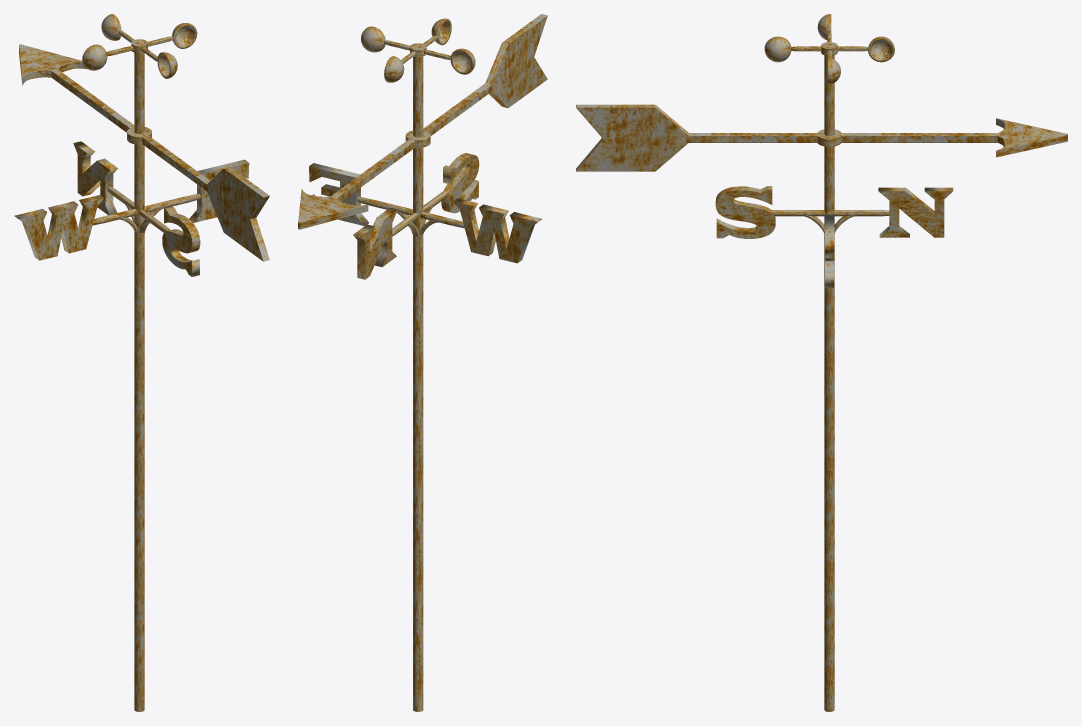
Rendered from windvane.glb.
3 views of the same model, side by side, from view 1: azimuth 30°, elevation 25°; view 2: azimuth 150°, elevation 25°; view 3: azimuth 270°, elevation 25° (orthographic).
Parts seen in each view (by area): view 1: pillar, arrow, west, north, south, east, Cube, Sphere.002, Sphere, Cube.001, Sphere.004, Sphere.003; view 2: pillar, arrow, west, north, south, east, Cube, Sphere.002, Sphere, Cube.001, Sphere.003, Sphere.004; view 3: arrow, pillar, south, north.
Boxes of the visible parts, x1=… form: pillar: x1=134, y1=52, x2=144, y2=711; arrow: x1=19, y1=44, x2=269, y2=261; west: x1=14, y1=195, x2=104, y2=260; north: x1=73, y1=141, x2=118, y2=215; south: x1=162, y1=206, x2=200, y2=276; east: x1=189, y1=159, x2=249, y2=222; Cube: x1=81, y1=193, x2=200, y2=225; Sphere.002: x1=82, y1=44, x2=107, y2=70; Sphere: x1=172, y1=23, x2=197, y2=48; Cube.001: x1=107, y1=186, x2=170, y2=232; Sphere.004: x1=157, y1=52, x2=177, y2=78; Sphere.003: x1=101, y1=14, x2=121, y2=40; pillar: x1=413, y1=56, x2=423, y2=711; arrow: x1=298, y1=14, x2=547, y2=229; west: x1=453, y1=198, x2=542, y2=263; north: x1=353, y1=207, x2=397, y2=279; south: x1=441, y1=153, x2=479, y2=213; east: x1=309, y1=163, x2=368, y2=225; Cube: x1=357, y1=196, x2=475, y2=228; Sphere.002: x1=450, y1=48, x2=475, y2=74; Sphere: x1=361, y1=26, x2=385, y2=52; Cube.001: x1=392, y1=189, x2=449, y2=236; Sphere.003: x1=384, y1=56, x2=404, y2=82; Sphere.004: x1=431, y1=18, x2=451, y2=45; arrow: x1=576, y1=104, x2=1067, y2=171; pillar: x1=824, y1=55, x2=834, y2=711; south: x1=715, y1=186, x2=775, y2=238; north: x1=878, y1=187, x2=953, y2=237.
Bounding box in the file's own units: 0.9226 × 2.58 × 1.71.
Materials: 1 (1 with a texture image).
